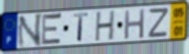E: (40, 12, 64, 47)
H: (94, 9, 117, 44), (123, 7, 146, 41)
N: (16, 12, 44, 50)
T: (72, 12, 90, 44)
Z: (146, 6, 170, 39)
